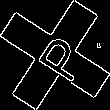P_NW: (24, 26, 86, 84)
